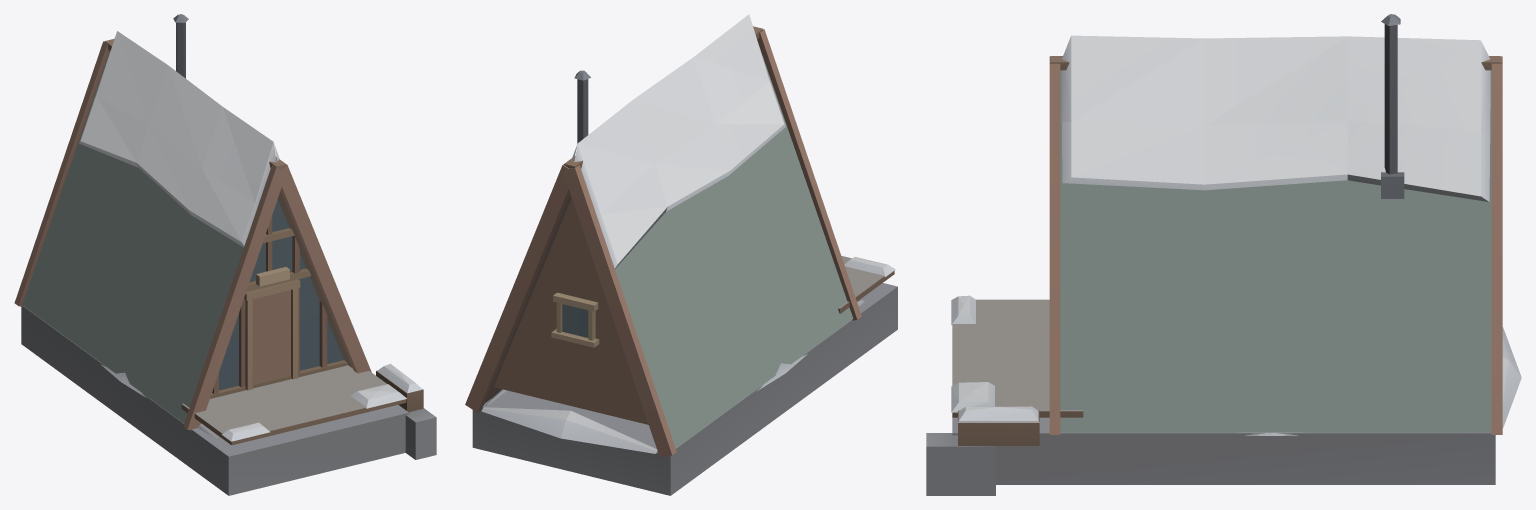
The model's file is aframe.lod1.glb.
3 renders of one model, left to right at view 1: azimuth 30°, elevation 25°; view 2: azimuth 150°, elevation 25°; view 3: azimuth 270°, elevation 25°, orthographic. The views are drawn at different scales.
Size of the model in its own units: 5.6 by 8.7 by 10.91.
